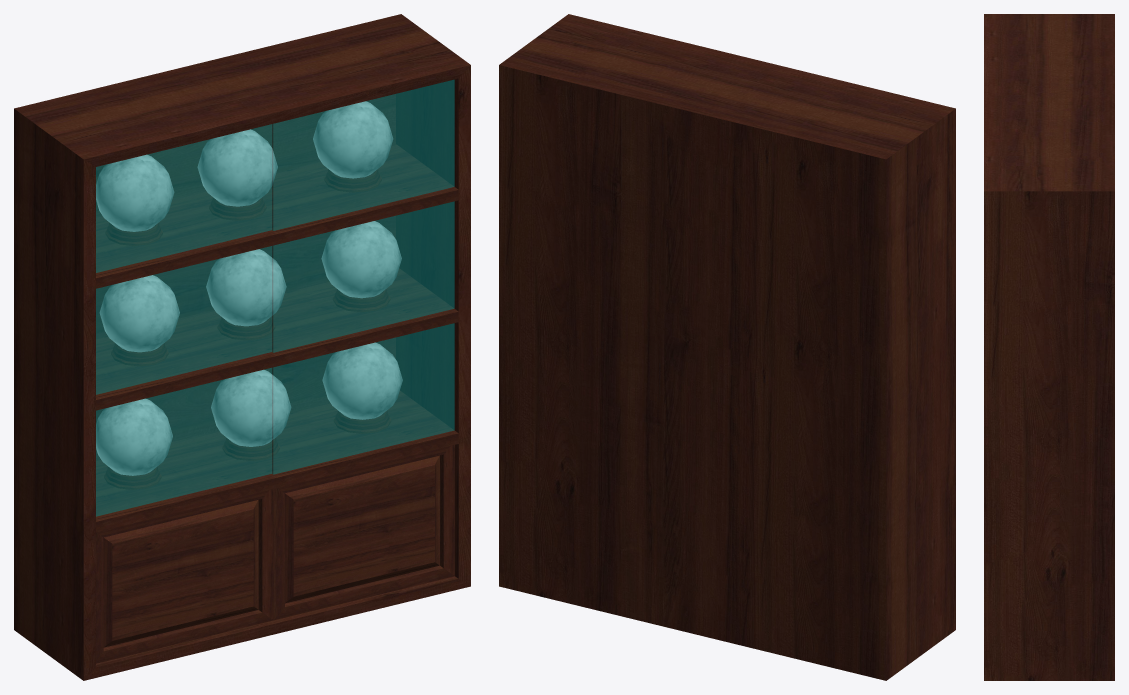
File: ShelfMagicBall.fbx
3 views of the same model, side by side, from view 1: azimuth 30°, elevation 25°; view 2: azimuth 150°, elevation 25°; view 3: azimuth 270°, elevation 25° (orthographic). The views are drawn at different scales.
Parts seen in each view (by area): view 1: ShelfMagicBall; view 2: ShelfMagicBall; view 3: ShelfMagicBall.
Part boxes in pixels (left/top/right/bottom): ShelfMagicBall: left=14, top=14, right=470, bottom=680; ShelfMagicBall: left=499, top=14, right=955, bottom=680; ShelfMagicBall: left=984, top=14, right=1114, bottom=680.
Size of the model in its own units: 12.29 by 15.81 by 3.83.
Materials: 3 (2 with a texture image).
